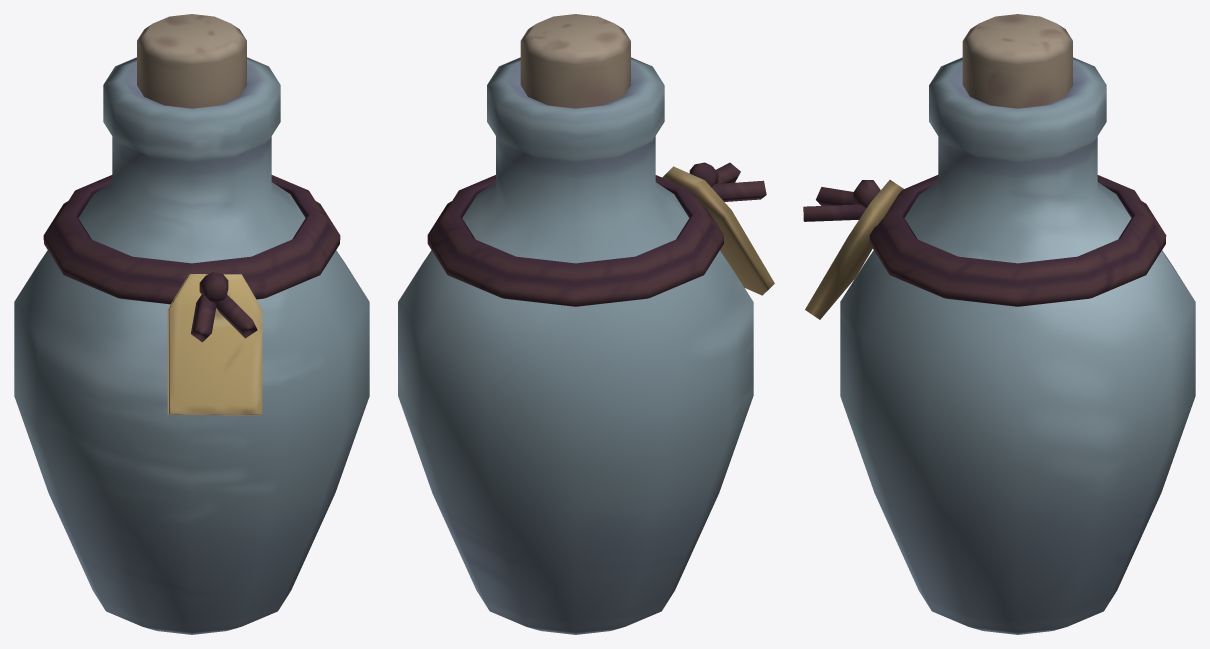
The model's file is potion.fbx.
3 views of the same model, side by side, from view 1: azimuth 30°, elevation 25°; view 2: azimuth 150°, elevation 25°; view 3: azimuth 270°, elevation 25° (orthographic).
Parts seen in each view (by area): view 1: link_V001_004:mesh_potion; view 2: link_V001_004:mesh_potion; view 3: link_V001_004:mesh_potion.
Part boxes in pixels (left/top/right/bottom): link_V001_004:mesh_potion: left=14, top=14, right=369, bottom=634; link_V001_004:mesh_potion: left=398, top=14, right=774, bottom=634; link_V001_004:mesh_potion: left=803, top=14, right=1195, bottom=634.
Size of the model in its own units: 11.36 by 20.18 by 12.54.
1 material, 1 textured.
